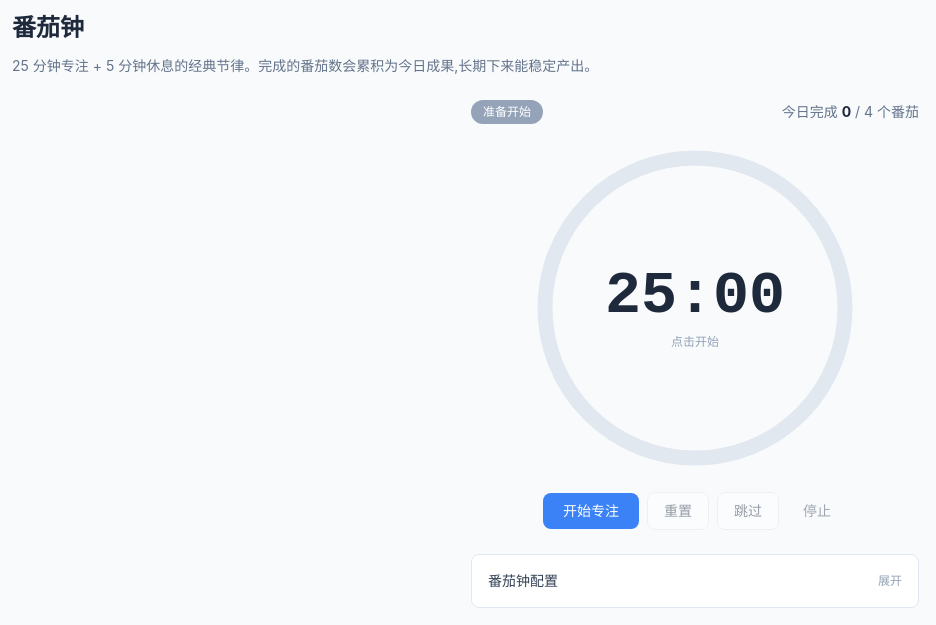
Test case: PomodoroPage › 点击"开始专注"启动 focus,按钮文字变"暂停"
Click the button "开始专注" at (591, 511), box [543,493,639,529]
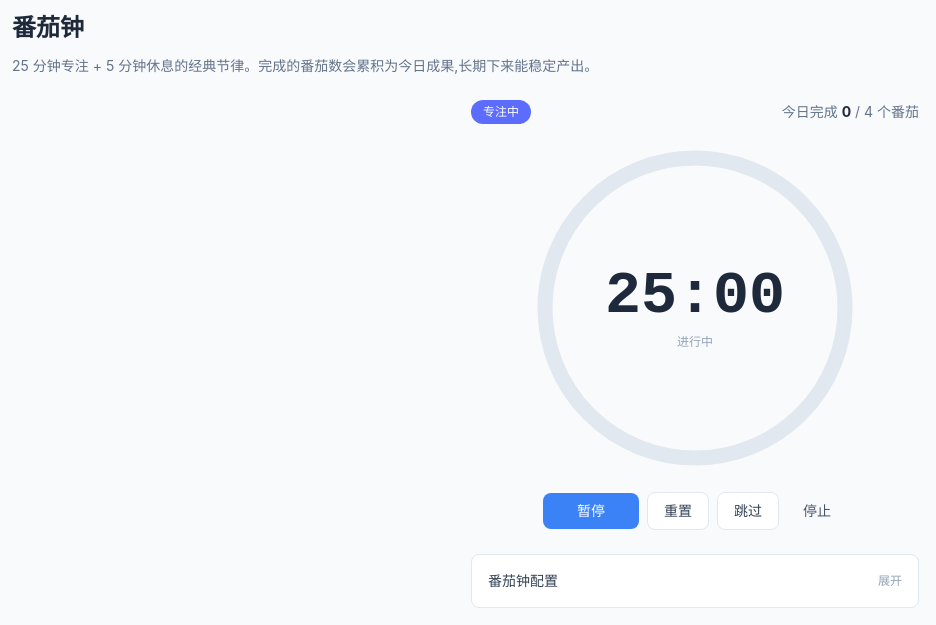
Result: the text with test id "pomodoro-phase-label" reads "专注中" at [483,104,519,119]
Result: the button "暂停" is shown at [543,493,639,529]
